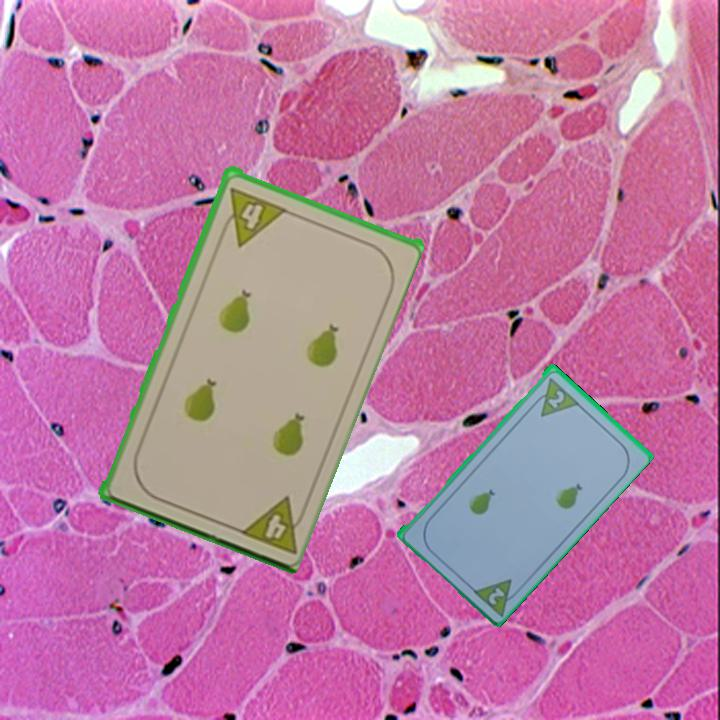2p: (544, 386, 568, 411), (484, 583, 508, 607)
4p: (234, 491, 311, 557), (215, 183, 288, 248)
